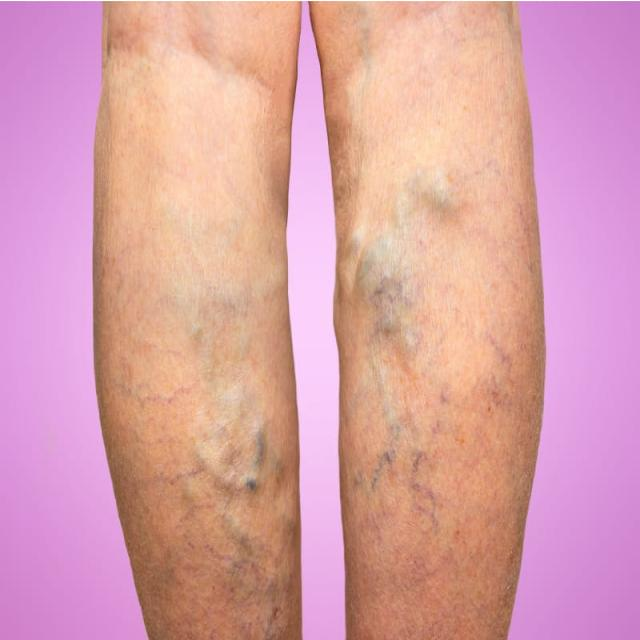Varicose: (73, 85, 544, 613)
